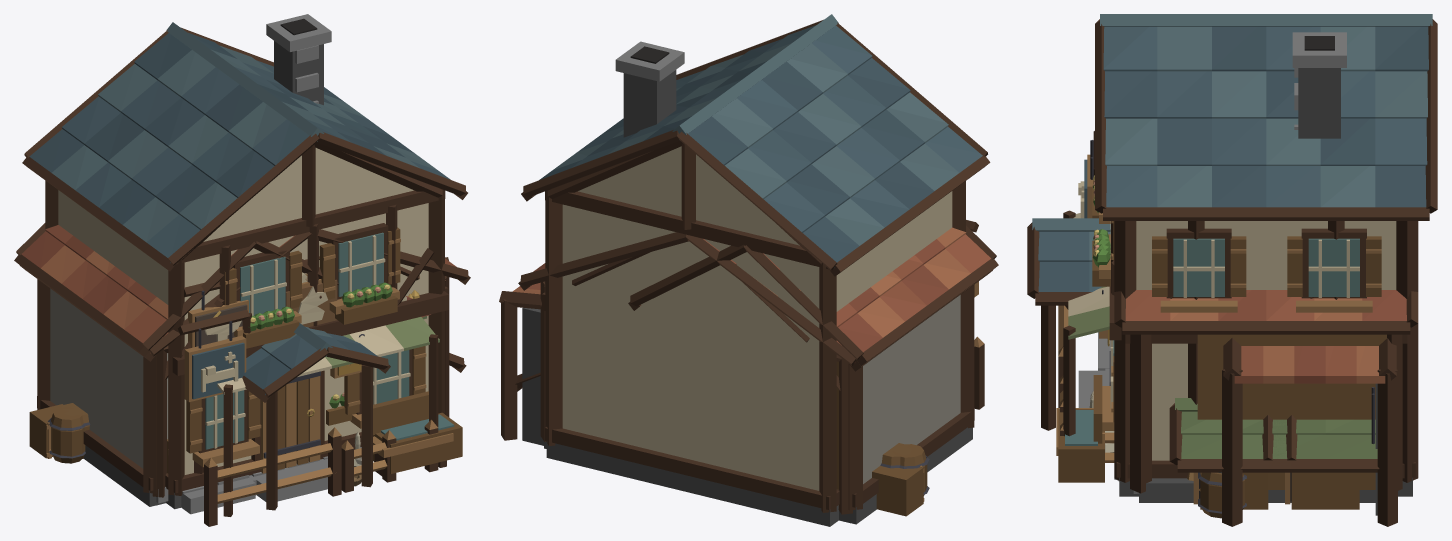
Rendered from town.glb.
3 views of the same model, side by side, from view 1: azimuth 30°, elevation 25°; view 2: azimuth 150°, elevation 25°; view 3: azimuth 270°, elevation 25° (orthographic). The views are drawn at different scales.
Parts seen in each view (by area): view 1: town_inn_a, town_blacksmith_a, town_stable_a, town_pet_shop_a; view 2: town_inn_a, town_blacksmith_a, town_stable_a, town_pet_shop_a; view 3: town_inn_a, town_stable_a, town_pet_shop_a, town_blacksmith_a.
Part boxes in pixels (<box>): town_inn_a: <box>22,14,467,510</box>; town_blacksmith_a: <box>14,223,448,514</box>; town_stable_a: <box>20,229,470,526</box>; town_pet_shop_a: <box>217,235,466,516</box>; town_inn_a: <box>521,14,990,526</box>; town_blacksmith_a: <box>499,225,998,524</box>; town_stable_a: <box>518,232,992,523</box>; town_pet_shop_a: <box>515,239,809,391</box>; town_inn_a: <box>1027,14,1437,496</box>; town_stable_a: <box>1058,290,1418,502</box>; town_pet_shop_a: <box>1060,210,1379,509</box>; town_blacksmith_a: <box>1098,332,1397,526</box>.
Bounding box in the file's own units: 5.02 × 4.79 × 4.22.
